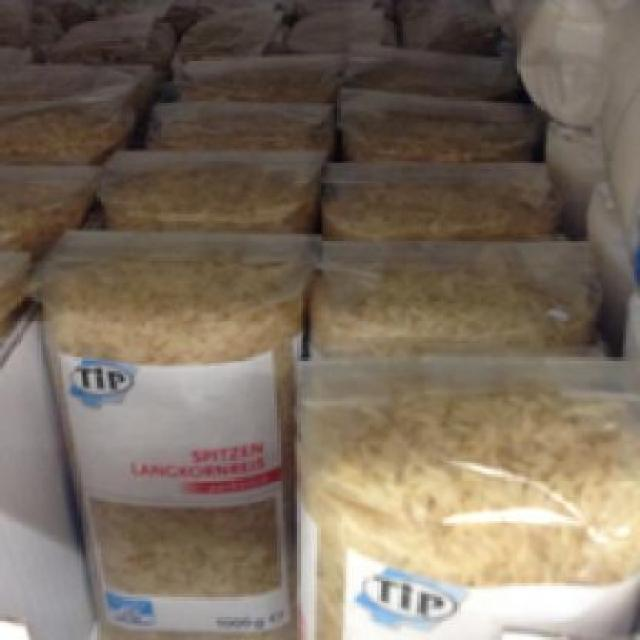Rice: (25, 225, 318, 638), (292, 343, 638, 631)
